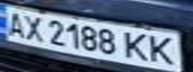1: (60, 20, 81, 51)
2: (42, 17, 66, 47)
8: (96, 26, 121, 56), (78, 24, 100, 53)
A: (0, 8, 30, 38)
K: (145, 33, 181, 66), (121, 29, 151, 63)
X: (18, 12, 48, 43)
